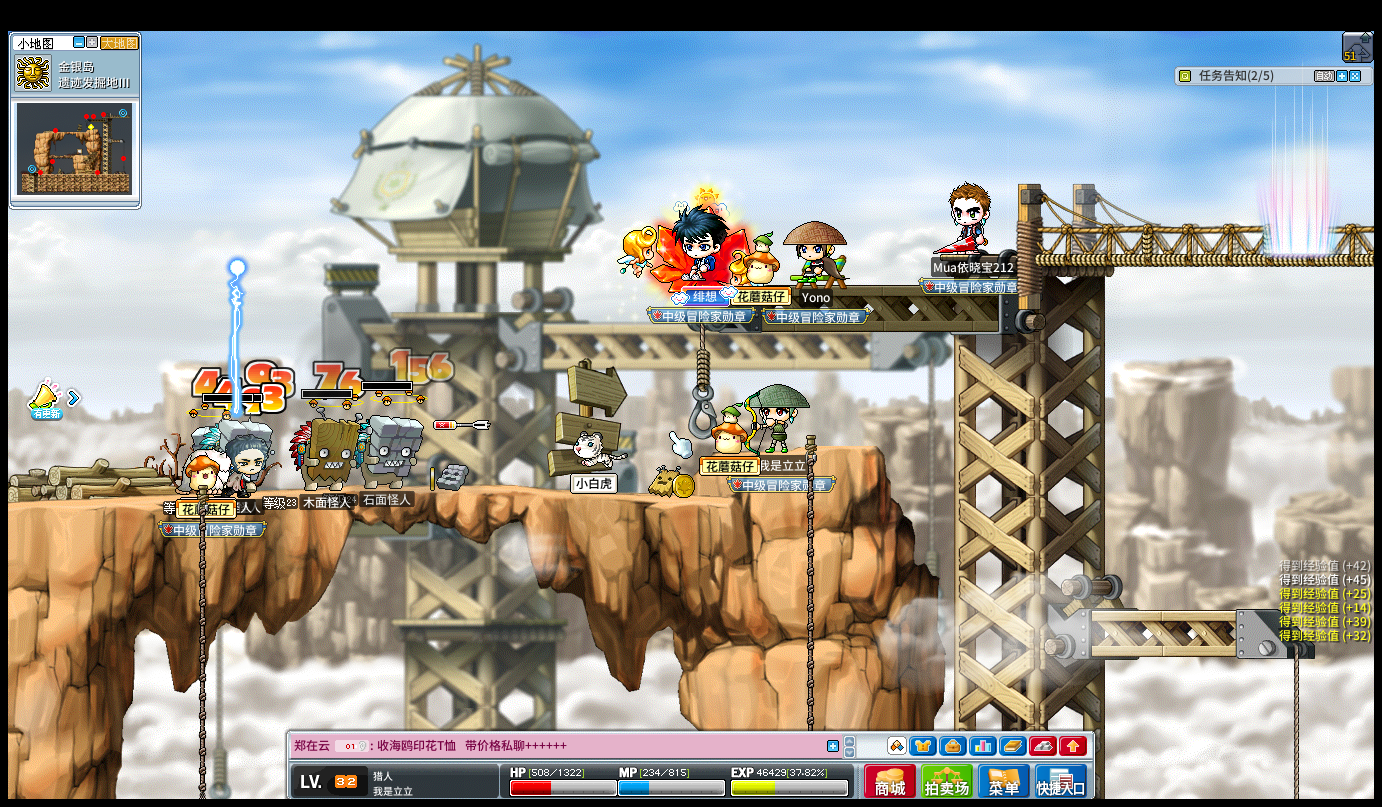floor: (0, 480, 819, 504), (16, 482, 795, 498), (50, 484, 756, 501), (896, 219, 1376, 235)
monster: (288, 409, 362, 488), (354, 413, 423, 487)
rope: (194, 486, 207, 802), (802, 451, 817, 722), (1288, 652, 1303, 793)
